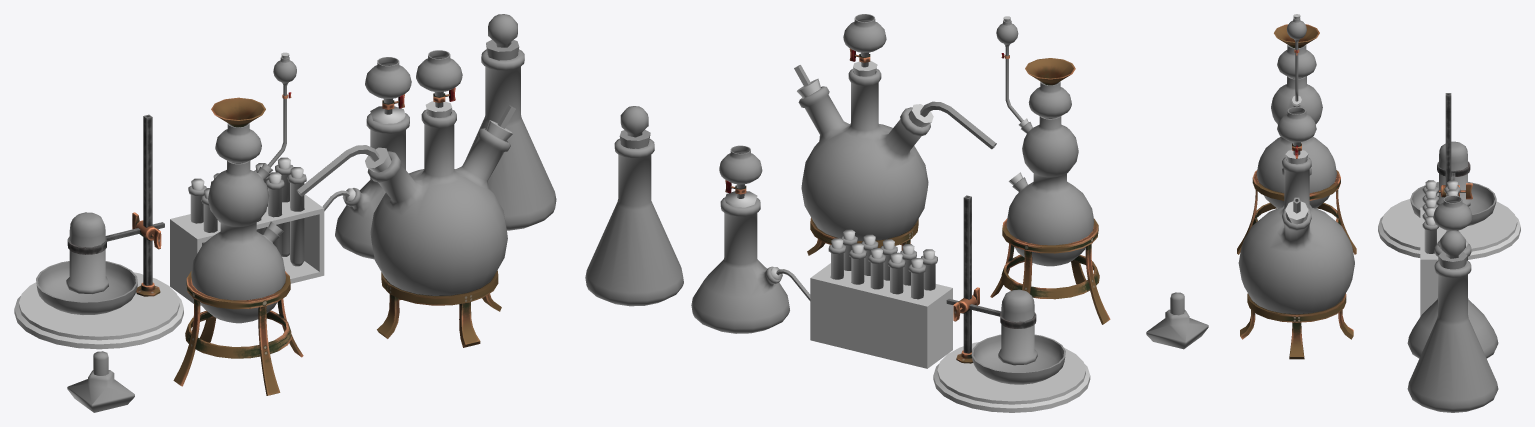
File: Flasks.FBX
The picture shows the model from 3 angles, left to right: view 1: azimuth 30°, elevation 25°; view 2: azimuth 150°, elevation 25°; view 3: azimuth 270°, elevation 25°; orthographic projection. The views are drawn at different scales.
Visible parts, largest first — view 1: Object045, Object046, Object042, Object025, Object041, Object029, Object027, Object028, Object043, Object021, Object040, Object026 (+4 smaller); view 2: Object045, Object046, Object029, Object025, Object027, Object042, Object041, Object028, Object043, Object021, Object026, Object048 (+5 smaller); view 3: Object045, Object025, Object046, Object042, Object041, Object027, Object029, Object043, Object028, Object026, Object048, Object040.
Part boxes in pixels (x1,y1,x2,y2): Object045: [296, 101, 515, 347]; Object046: [173, 52, 303, 395]; Object042: [14, 114, 183, 349]; Object025: [465, 49, 556, 230]; Object041: [36, 212, 137, 314]; Object029: [170, 194, 324, 305]; Object027: [322, 106, 409, 259]; Object028: [365, 57, 411, 114]; Object043: [416, 50, 462, 107]; Object021: [67, 370, 134, 412]; Object040: [287, 167, 306, 266]; Object026: [486, 14, 519, 60]; Object045: [794, 61, 996, 255]; Object046: [990, 16, 1110, 324]; Object029: [810, 263, 952, 368]; Object025: [585, 138, 683, 306]; Object027: [691, 191, 810, 333]; Object042: [933, 195, 1090, 412]; Object041: [971, 289, 1065, 384]; Object028: [719, 145, 762, 198]; Object043: [843, 14, 886, 67]; Object021: [1146, 309, 1208, 349]; Object026: [619, 106, 650, 148]; Object048: [1025, 58, 1075, 85]; Object045: [1238, 150, 1354, 359]; Object025: [1407, 260, 1498, 412]; Object046: [1237, 14, 1356, 254]; Object042: [1378, 93, 1520, 259]; Object041: [1410, 141, 1496, 225]; Object027: [1407, 240, 1498, 358]; Object029: [1420, 207, 1466, 316]; Object043: [1277, 107, 1316, 158]; Object028: [1433, 195, 1472, 230]; Object026: [1438, 230, 1467, 269]; Object048: [1274, 24, 1319, 48]; Object040: [1422, 216, 1438, 253].
Bounding box in the file's own units: 155 × 80.48 × 80.42.
